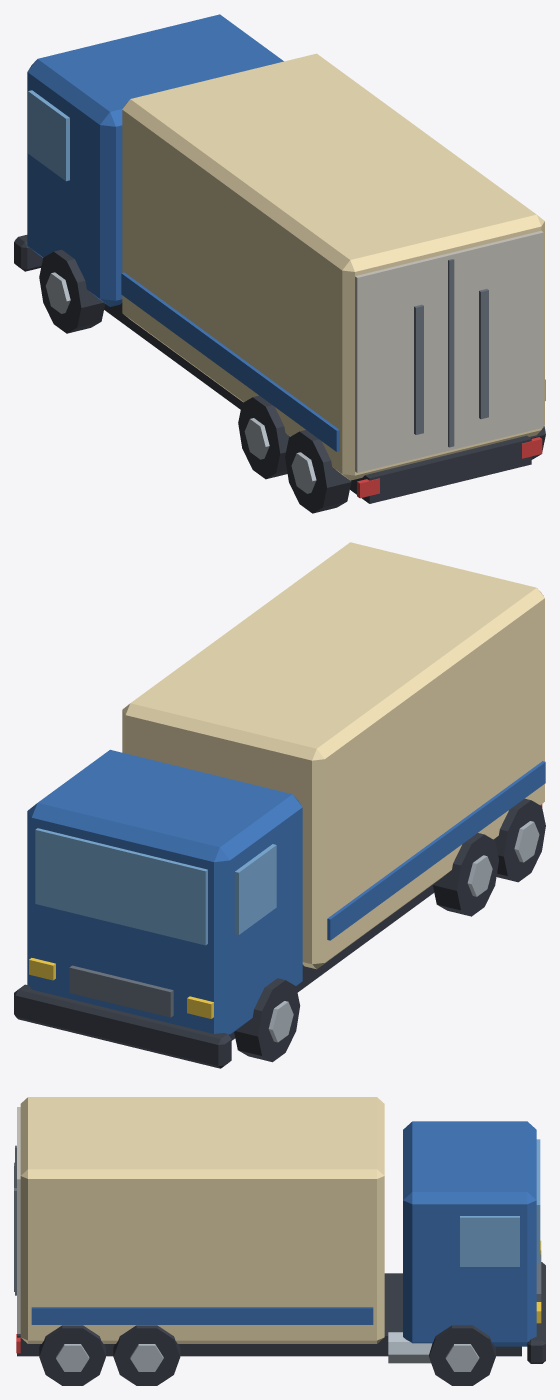
File: caminhao.glb
3 renders of one model, top to bottom at view 1: azimuth 30°, elevation 25°; view 2: azimuth 150°, elevation 25°; view 3: azimuth 270°, elevation 25°, orthographic. The views are drawn at different scales.
Parts seen in each view (by area): view 1: corpo; view 2: corpo; view 3: corpo.
Boxes of the visible parts, <box> form: corpo: <box>14,14,545,513</box>; corpo: <box>14,542,545,1068</box>; corpo: <box>14,1097,545,1385</box>.
Bounding box in the file's own units: 0.56 × 0.6256 × 1.43.
